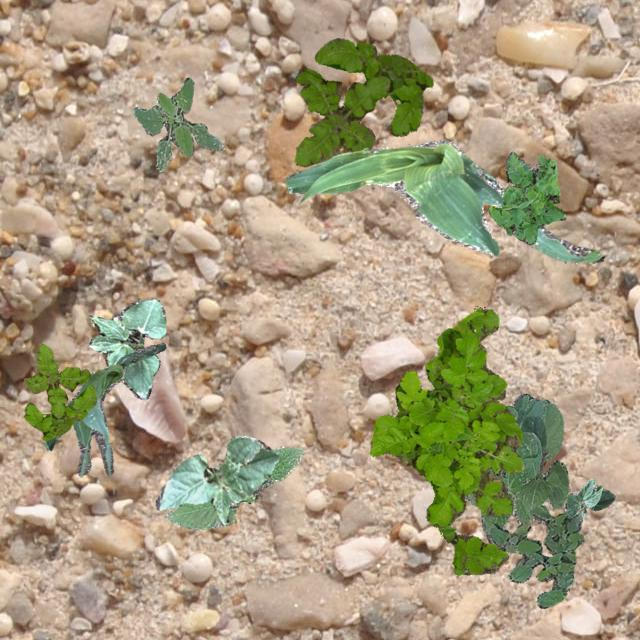crop: (284, 140, 604, 262), (44, 342, 164, 476), (464, 392, 568, 542), (165, 446, 304, 528), (154, 434, 278, 524), (88, 296, 164, 398), (562, 478, 614, 518)
weed: (368, 307, 524, 574), (294, 36, 432, 166), (488, 507, 582, 608), (132, 76, 224, 170), (23, 342, 96, 440), (488, 150, 564, 244)
